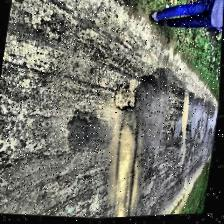pothole: (113, 80, 141, 114)
